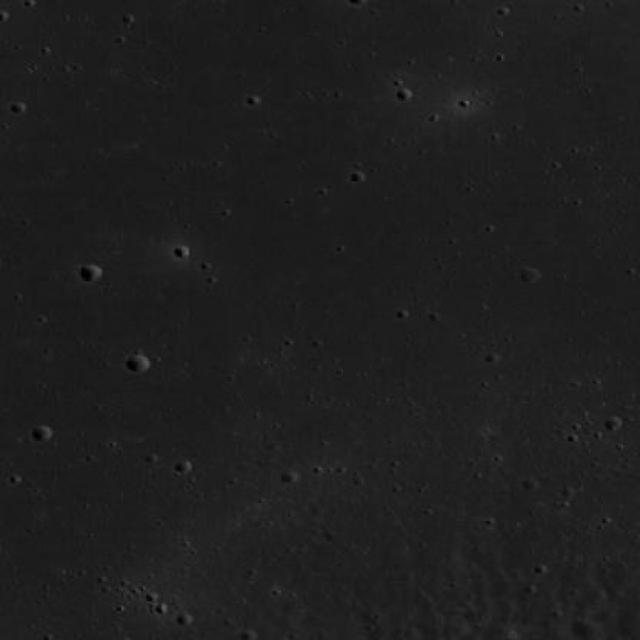crater: (125, 354, 148, 372), (78, 263, 100, 280)
